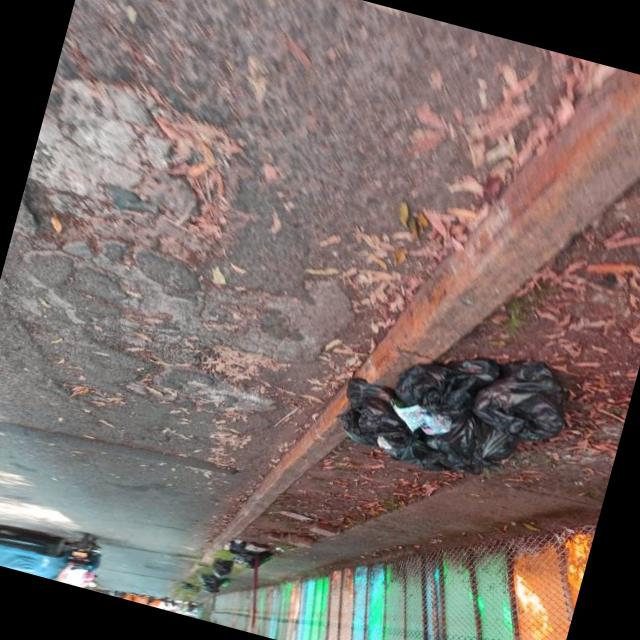high trash: (339, 359, 564, 474)
